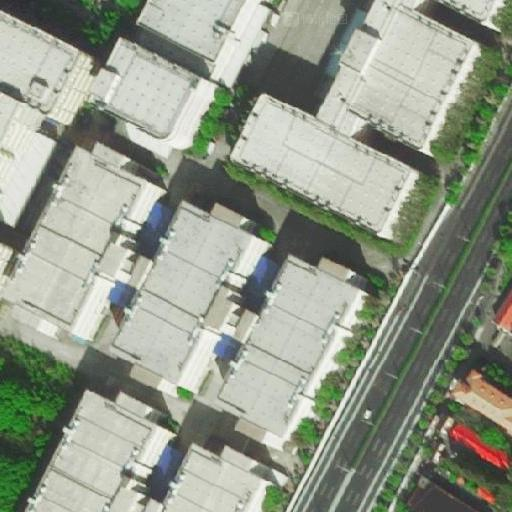building: (2, 146, 163, 342), (108, 204, 268, 395), (215, 257, 374, 449), (231, 99, 418, 239), (335, 1, 491, 152), (0, 7, 98, 239), (14, 385, 178, 511), (88, 35, 221, 153), (157, 439, 286, 511), (451, 366, 511, 436), (397, 475, 487, 512), (449, 420, 510, 470), (490, 275, 512, 335)
